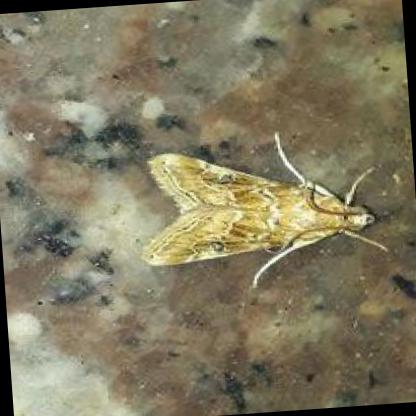Hellula undalis: (139, 117, 400, 290)
